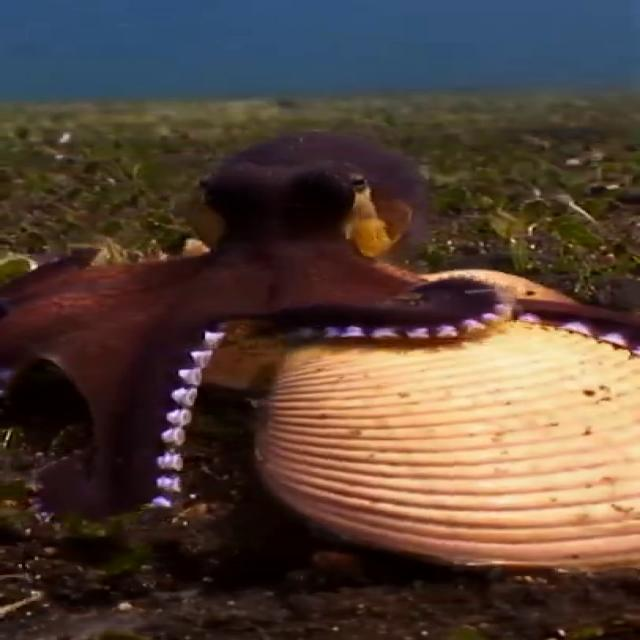octopus: (0, 134, 640, 536)
